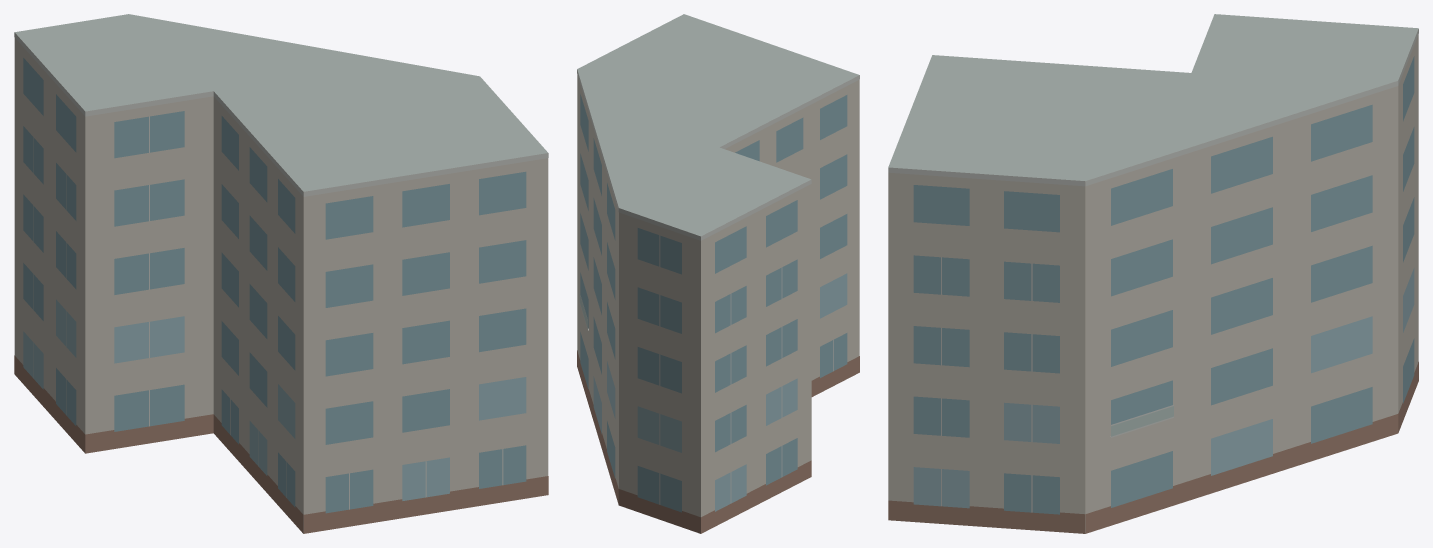
The model's file is survey-upis-33038004.glb.
The picture shows the model from 3 angles, left to right: view 1: azimuth 30°, elevation 25°; view 2: azimuth 150°, elevation 25°; view 3: azimuth 270°, elevation 25°; orthographic projection. The views are drawn at different scales.
Visible parts, largest first — view 1: survey-upis-33038004.tmp; view 2: survey-upis-33038004.tmp; view 3: survey-upis-33038004.tmp.
Boxes of the visible parts, x1,y1,x2,y2 form: survey-upis-33038004.tmp: [14, 14, 548, 533]; survey-upis-33038004.tmp: [577, 14, 859, 533]; survey-upis-33038004.tmp: [888, 14, 1418, 533].
Bounding box in the file's own units: 16.78 × 16.5 × 22.5.
